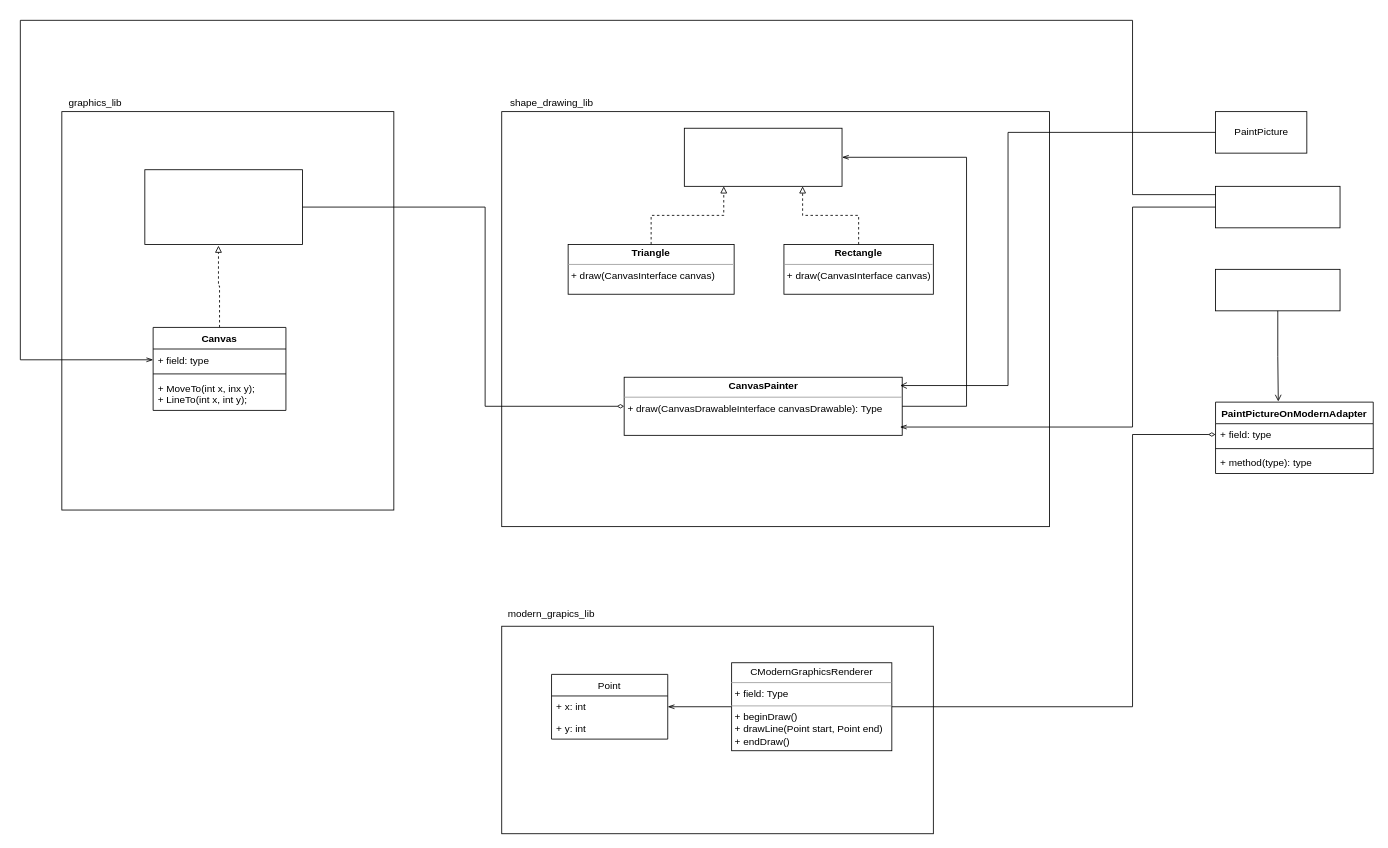
Image size: 1388x848. Some labels were removed from this diagram. The centre of each missing label's shape, as x and y in pixels:
"<<Interface>> CanvasDrawableInterface + draw( CanvasInterface canvas)" belongs at point 763,156.
"<<Interface>> CanvasInterface + MoveTo(int x, inx y); + LineTo(int x, int y);" belongs at point 223,206.
"PaintPictureOnCanvas" belongs at point 1277,207.
"PaintPictureOnModern" belongs at point 1277,290.
